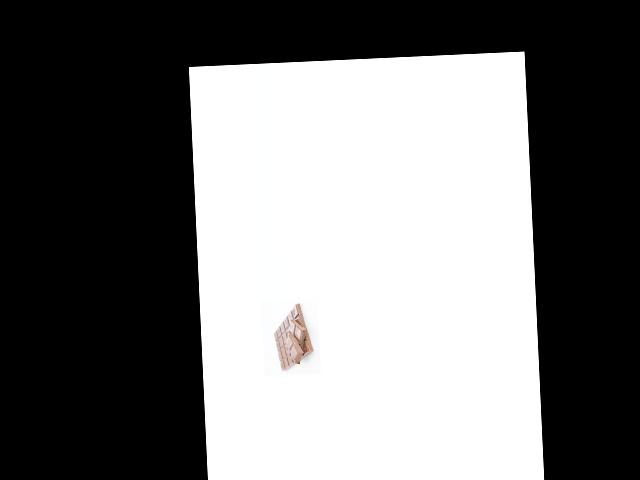chocolate: (269, 302, 317, 372)
